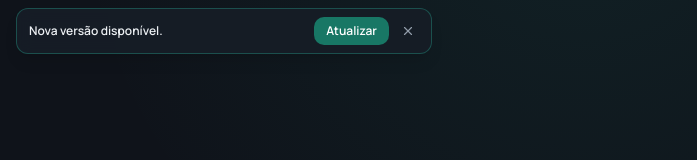
Test: AppUpdateBanner › hides the banner after dismissal
Click the button named "Dispensar aviso de atualização": coordinates (408, 31) [397, 20, 419, 42]
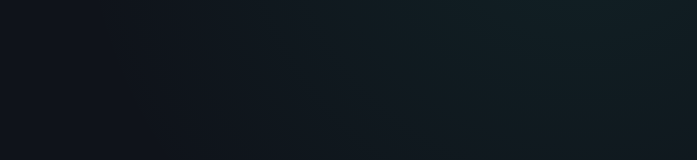
Expected: the message with test id "app-update-banner" is gone
